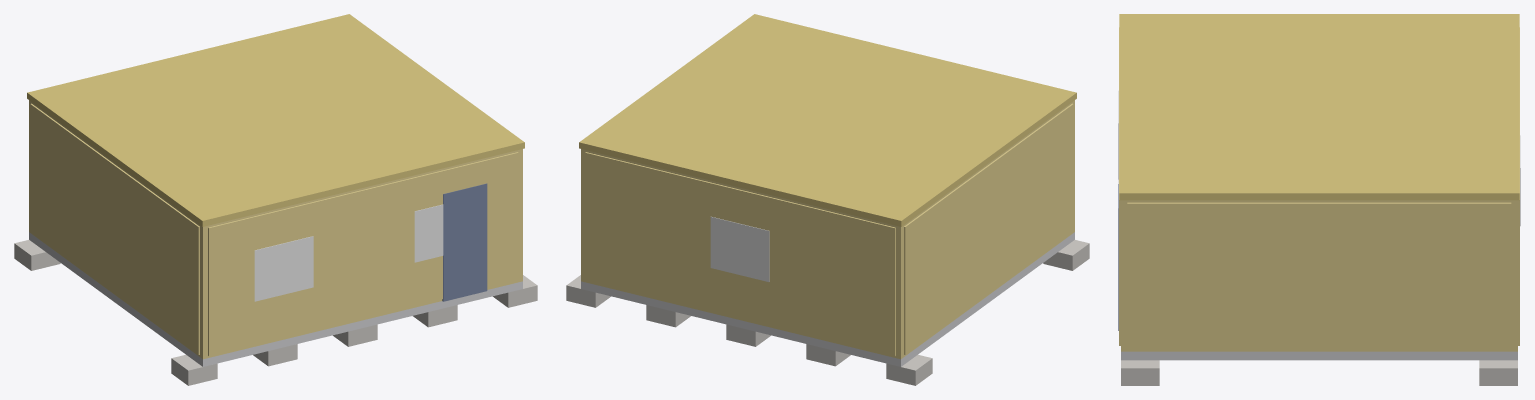
File: Studio-20-Base-DesertYellow-LOD2.glb
3 views of the same model, side by side, from view 1: azimuth 30°, elevation 25°; view 2: azimuth 150°, elevation 25°; view 3: azimuth 270°, elevation 25° (orthographic). The views are drawn at different scales.
Parts seen in each view (by area): view 1: RoofMain, ExteriorPanelsStandard, EntryDoor, WindowsStandard, FoundationBlocks, ExteriorShell, BaseFrame; view 2: ExteriorPanelsStandard, RoofMain, FoundationBlocks, BaseFrame, ExteriorShell, WindowsStandard; view 3: RoofMain, ExteriorPanelsStandard, ExteriorShell, BaseFrame, FoundationBlocks.
Part boxes in pixels (x1,y1,x2,y2): RoofMain: [27, 14, 524, 226]; ExteriorPanelsStandard: [30, 103, 518, 355]; EntryDoor: [442, 183, 487, 301]; WindowsStandard: [254, 204, 443, 301]; FoundationBlocks: [14, 240, 537, 385]; ExteriorShell: [29, 100, 522, 359]; BaseFrame: [29, 232, 522, 366]; ExteriorPanelsStandard: [585, 103, 1073, 355]; RoofMain: [579, 14, 1076, 226]; FoundationBlocks: [566, 240, 1089, 385]; BaseFrame: [581, 232, 1074, 366]; ExteriorShell: [581, 100, 1074, 359]; WindowsStandard: [710, 216, 769, 281]; RoofMain: [1119, 14, 1519, 200]; ExteriorPanelsStandard: [1119, 27, 1519, 349]; ExteriorShell: [1121, 200, 1517, 351]; BaseFrame: [1121, 351, 1517, 360]; FoundationBlocks: [1121, 360, 1517, 385].
Size of the model in its own units: 7.14 by 3.17 by 6.24.
